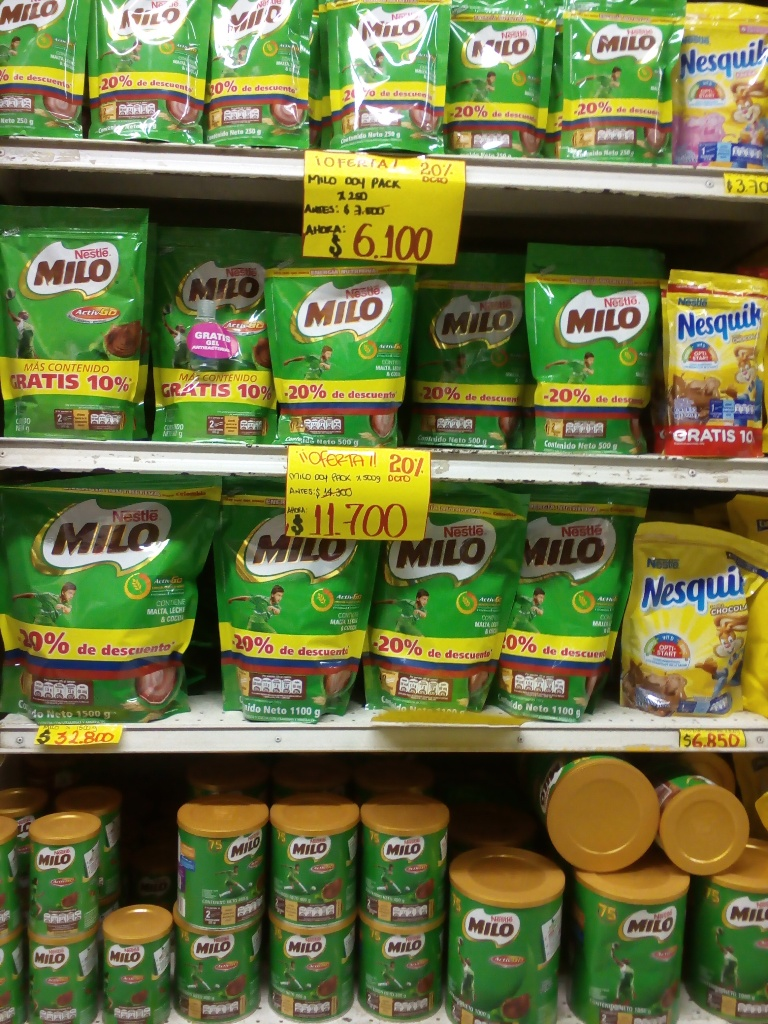COL0170203DYP25000: (0, 3, 89, 140)
COL0170203DYP50000: (257, 268, 414, 449)
COL0170203LAT20000: (26, 814, 105, 935)
COL0170203LAT40000: (172, 785, 274, 928)
COL0170305DYP20000: (684, 4, 766, 171)
